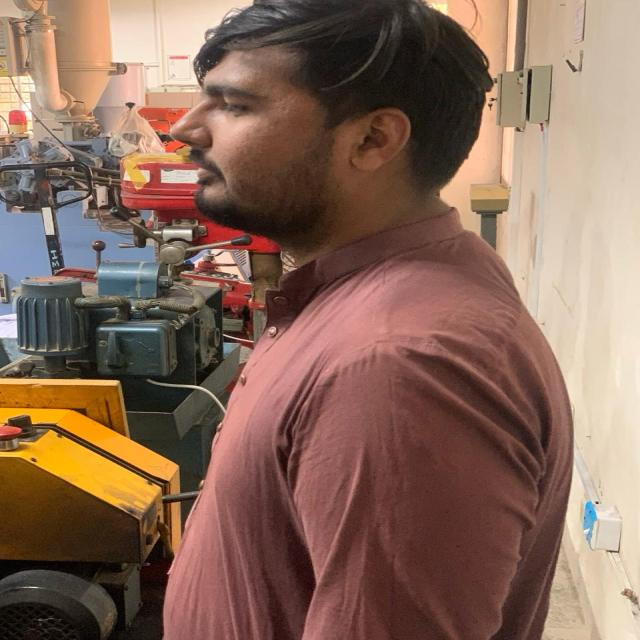dress: (157, 207, 587, 640)
